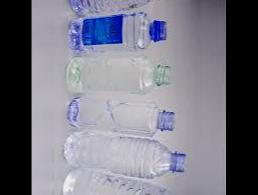bottle: (60, 131, 193, 179), (65, 7, 171, 56), (66, 94, 180, 138), (63, 53, 175, 96), (60, 166, 196, 195), (67, 0, 173, 15)
